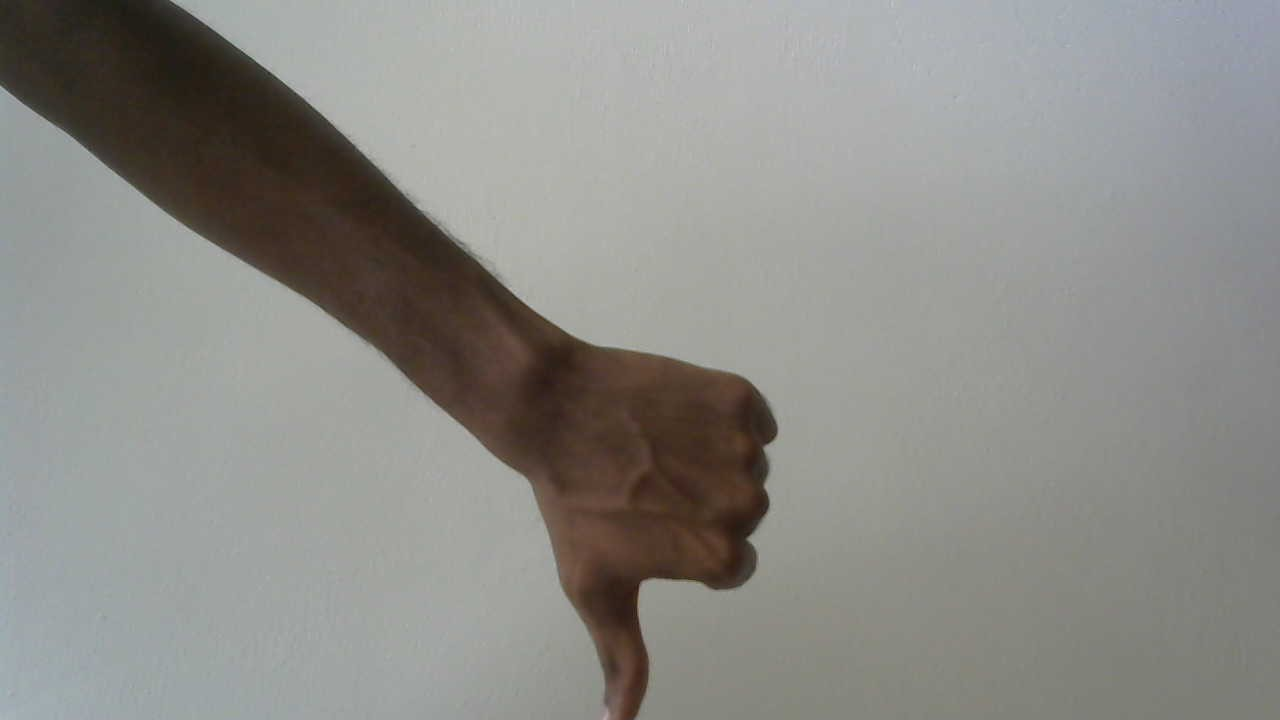thumbsdown: (516, 290, 797, 720)
